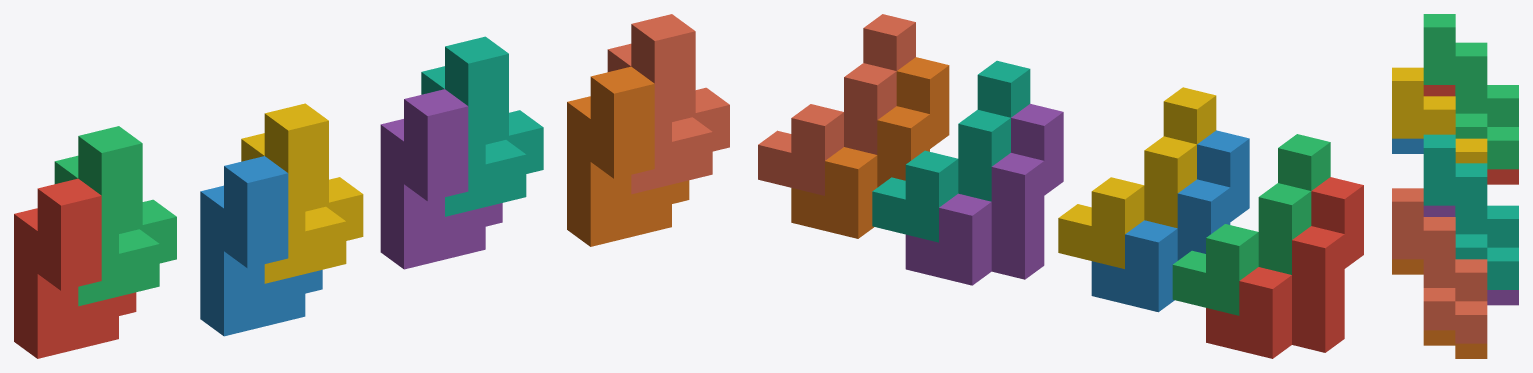
Rendered from tiling.obj.
3 renders of one model, left to right at view 1: azimuth 30°, elevation 25°; view 2: azimuth 150°, elevation 25°; view 3: azimuth 270°, elevation 25°, orthographic. The views are drawn at different scales.
Parts seen in each view (by area): view 1: copy_1_domain_5, copy_1_domain_2, copy_1_domain_1, copy_1_domain_6, copy_1_domain_3, copy_1_domain_8, copy_1_domain_4, copy_1_domain_7; view 2: copy_1_domain_5, copy_1_domain_1, copy_1_domain_6, copy_1_domain_2, copy_1_domain_3, copy_1_domain_7, copy_1_domain_4, copy_1_domain_8; view 3: copy_1_domain_8, copy_1_domain_7, copy_1_domain_3, copy_1_domain_4, copy_1_domain_6, copy_1_domain_1, copy_1_domain_5, copy_1_domain_2.
Boxes of the visible parts, left/top/right/bottom form: copy_1_domain_5: left=380, top=89, right=502, bottom=269; copy_1_domain_2: left=200, top=156, right=322, bottom=336; copy_1_domain_1: left=14, top=178, right=136, bottom=358; copy_1_domain_6: left=567, top=66, right=689, bottom=246; copy_1_domain_3: left=54, top=126, right=176, bottom=306; copy_1_domain_8: left=607, top=14, right=729, bottom=194; copy_1_domain_4: left=241, top=103, right=363, bottom=283; copy_1_domain_7: left=421, top=36, right=543, bottom=216; copy_1_domain_5: left=905, top=103, right=1063, bottom=285; copy_1_domain_1: left=1206, top=177, right=1363, bottom=358; copy_1_domain_6: left=791, top=57, right=949, bottom=238; copy_1_domain_2: left=1091, top=130, right=1249, bottom=312; copy_1_domain_3: left=1172, top=134, right=1330, bottom=315; copy_1_domain_7: left=872, top=60, right=1030, bottom=242; copy_1_domain_4: left=1058, top=87, right=1216, bottom=268; copy_1_domain_8: left=758, top=14, right=915, bottom=195; copy_1_domain_8: left=1392, top=188, right=1487, bottom=343; copy_1_domain_7: left=1423, top=134, right=1518, bottom=289; copy_1_domain_3: left=1423, top=14, right=1518, bottom=169; copy_1_domain_4: left=1392, top=67, right=1487, bottom=163; copy_1_domain_6: left=1392, top=259, right=1487, bottom=358; copy_1_domain_1: left=1423, top=85, right=1518, bottom=184; copy_1_domain_5: left=1423, top=205, right=1518, bottom=305; copy_1_domain_2: left=1392, top=138, right=1423, bottom=153.
Size of the model in its own units: 17 by 5 by 4.
